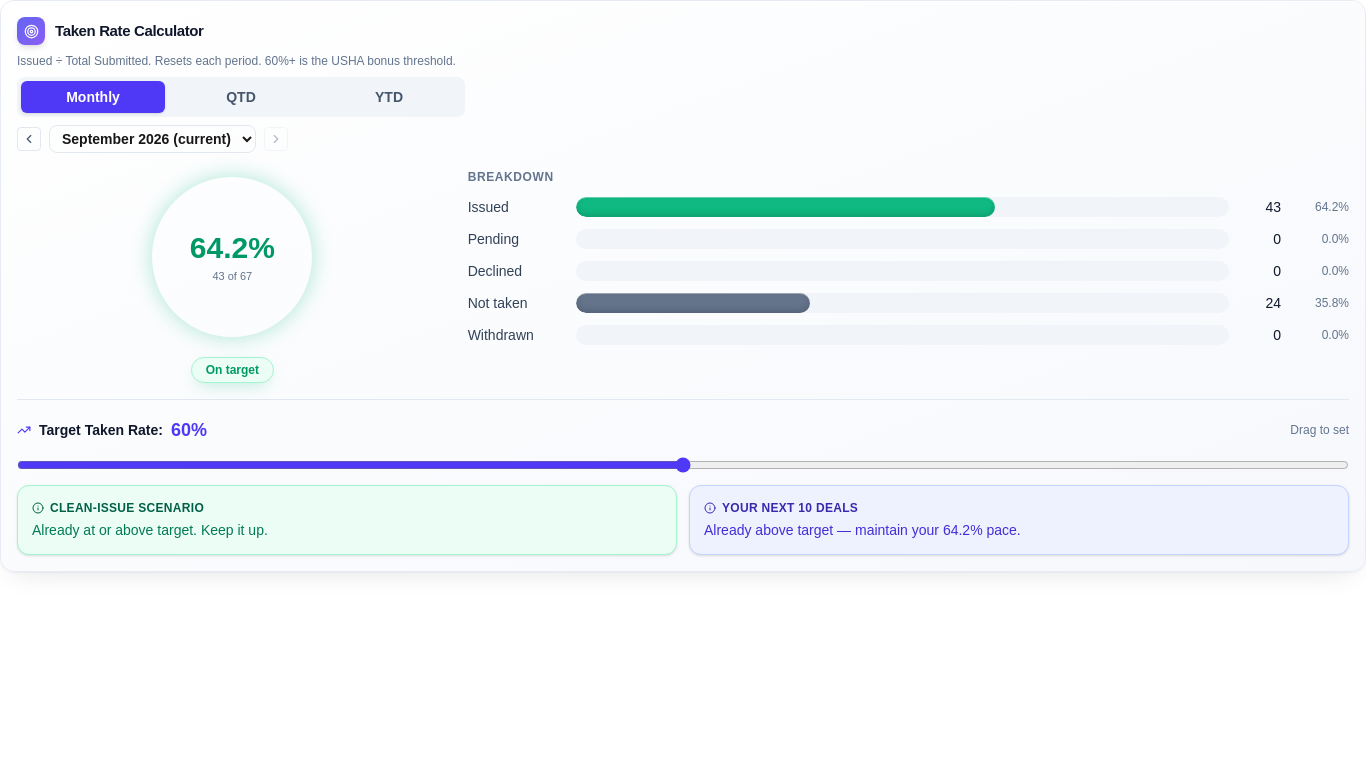
Test case: unreachable branch (43/67 @90%) quotes the 173-deal clean-issue figure, never the 10-deal number
Set the slider to "90" at point(1341, 465), box [17, 457, 1349, 473]
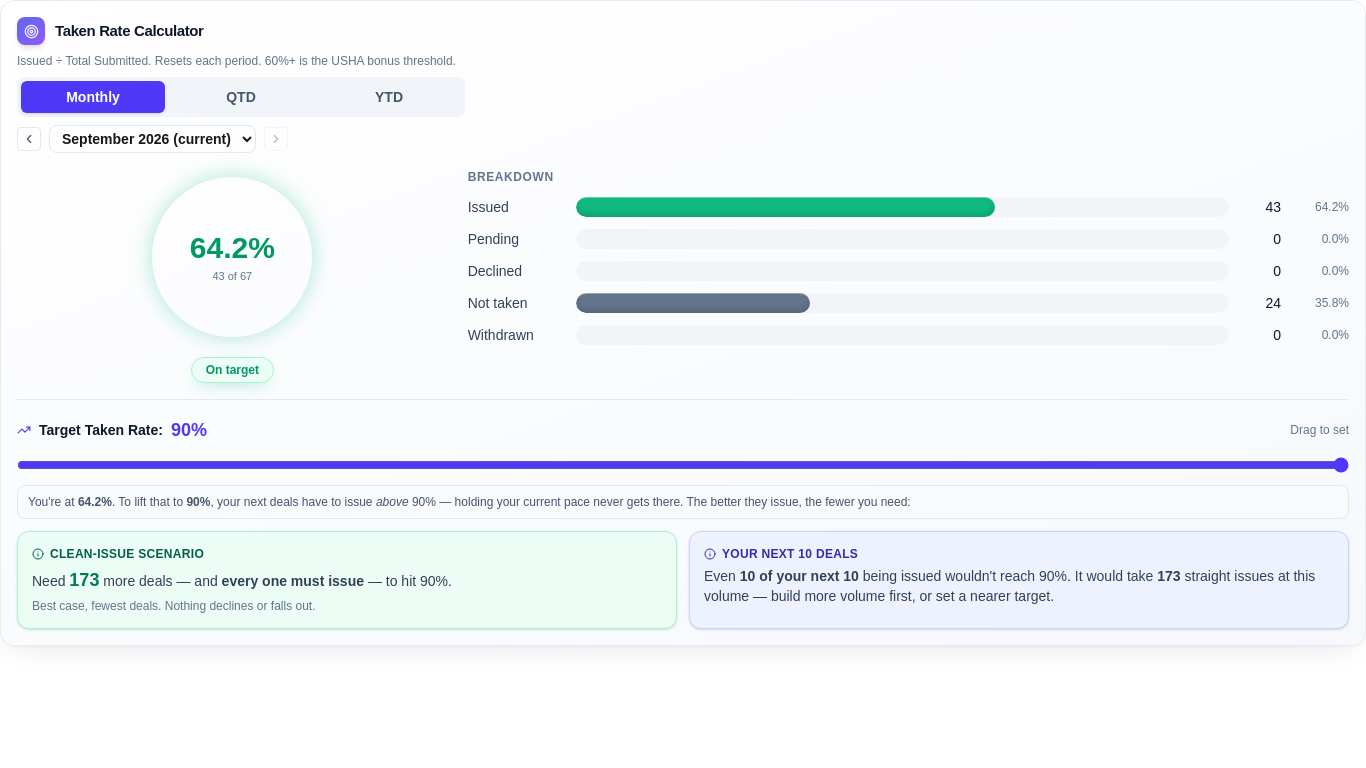
Expected: the text "Even" is shown, [704, 568, 740, 584]
Expected: the text "wouldn.t reach 90%" is shown, [704, 566, 1334, 606]
Expected: the text "173" next to "%. It would take" is shown, [1157, 568, 1181, 584]
